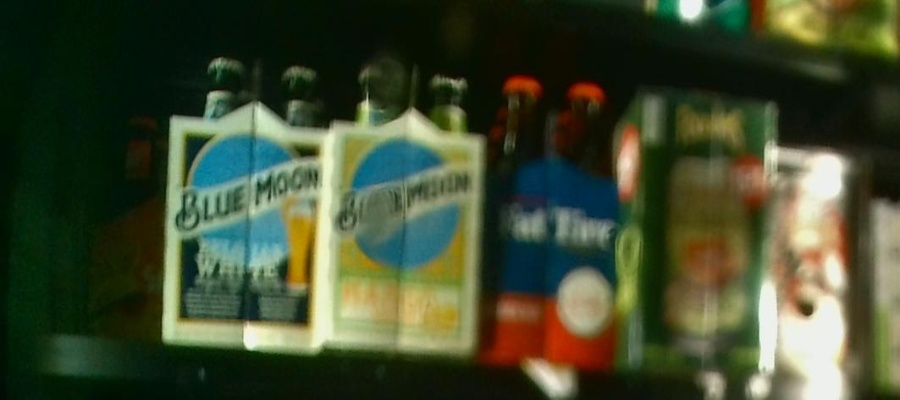bottle: (168, 57, 317, 354), (619, 89, 770, 380), (334, 55, 477, 349), (493, 68, 616, 370), (778, 145, 861, 385)
